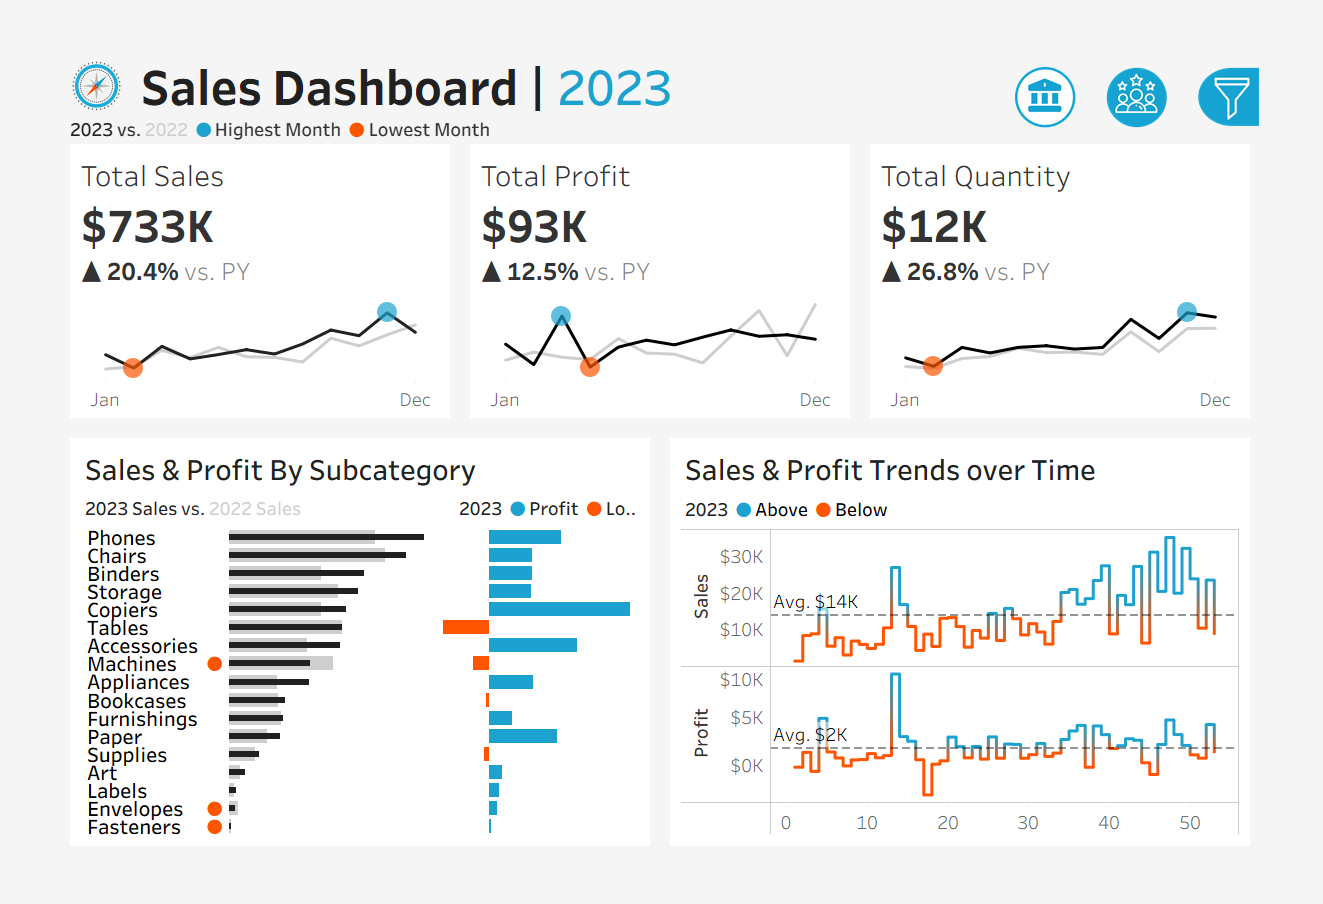

Layout of this report page (visuals, bound fields, positions):
{"tool":"tableau","page":{"name":"Sales Dashboard","canvas":[1200,800],"ordinal":1},"visuals":[{"type":"image","param":"Image/Icon - Logo.png","box":[0,0,73,59]},{"type":"text","box":[73,0,820,59]},{"type":"dashboard-object","box":[940,6,91,70]},{"type":"dashboard-object","box":[1031,6,91,70]},{"type":"blank","box":[952,10,237,86]},{"type":"worksheet","title":"Legend KPI","mark":"Automatic","box":[0,59,1200,29]},{"type":"worksheet","title":"KPI Sales","mark":"Automatic","rows":["Calculation_721701895347843083"],"cols":["Order Date"],"box":[0,88,400,284]},{"type":"worksheet","title":"KPI Profit","mark":"Automatic","rows":["Min/Max Sales (copy)_237846410425847814"],"cols":["Order Date"],"box":[400,88,400,284]},{"type":"worksheet","title":"KPI Quantity","mark":"Automatic","rows":["Min/Max Sales (copy) (copy)_237846410425856007"],"cols":["Order Date"],"box":[800,88,400,284]},{"type":"text","box":[952,96,237,37]},{"type":"parameter","param":"[Parameters].[Parameter 1]","box":[952,133,237,55]},{"type":"text","box":[952,188,237,32]},{"type":"filter","title":"KPI Sales","param":"[federated.1kpxa041aiai2y1cl4pui1t4eju9].[none:Category:nk]","box":[952,220,237,57]},{"type":"filter","title":"KPI Sales","param":"[federated.1kpxa041aiai2y1cl4pui1t4eju9].[none:Sub-Category:nk]","box":[952,277,237,57]},{"type":"blank","box":[952,334,237,60]},{"type":"text","box":[17,389,566,47]},{"type":"text","box":[617,389,566,47]},{"type":"text","box":[952,394,237,32]},{"type":"filter","title":"KPI Sales","param":"[federated.1kpxa041aiai2y1cl4pui1t4eju9].[none:Region:nk]","box":[952,426,237,57]},{"type":"worksheet","title":"Legend Subcategory","mark":"Automatic","box":[17,436,374,32]},{"type":"text","box":[391,436,192,32]},{"type":"text","box":[617,436,566,33]},{"type":"worksheet","title":"Subcategory Comparison","mark":"Bar","rows":["Sub-Category","Calculation_2435040078806671369"],"cols":["CY Sales (copy)_721701895335804930","Calculation_721701895334993921","CY Sales (copy)_237846410424180736"],"box":[17,468,566,315]},{"type":"worksheet","title":"Weekly Trends","mark":"Automatic","rows":["Calculation_721701895334993921","CY Sales (copy)_237846410424180736"],"cols":["Order Date"],"box":[617,469,566,314]},{"type":"filter","title":"KPI Sales","param":"[federated.1kpxa041aiai2y1cl4pui1t4eju9].[none:State:nk]","box":[952,483,237,57]},{"type":"filter","title":"KPI Sales","param":"[federated.1kpxa041aiai2y1cl4pui1t4eju9].[none:City:nk]","box":[952,540,237,57]}]}

Visuals, with their boxes in screenshot pixels (x1, y1, x2, y2), scaled from the page's 1200x800 canvas onto the 1323x904 screenshot:
image: BBox(0, 0, 80, 67)
text: BBox(80, 0, 985, 67)
dashboard-object: BBox(1036, 7, 1137, 86)
dashboard-object: BBox(1137, 7, 1237, 86)
blank: BBox(1050, 11, 1311, 108)
"Legend KPI" worksheet: BBox(0, 67, 1322, 99)
"KPI Sales" worksheet: BBox(0, 99, 441, 420)
"KPI Profit" worksheet: BBox(441, 99, 882, 420)
"KPI Quantity" worksheet: BBox(882, 99, 1322, 420)
text: BBox(1050, 108, 1311, 150)
parameter: BBox(1050, 150, 1311, 212)
text: BBox(1050, 212, 1311, 249)
"KPI Sales" filter: BBox(1050, 249, 1311, 313)
"KPI Sales" filter: BBox(1050, 313, 1311, 377)
blank: BBox(1050, 377, 1311, 445)
text: BBox(19, 440, 643, 493)
text: BBox(680, 440, 1304, 493)
text: BBox(1050, 445, 1311, 481)
"KPI Sales" filter: BBox(1050, 481, 1311, 546)
"Legend Subcategory" worksheet: BBox(19, 493, 431, 529)
text: BBox(431, 493, 643, 529)
text: BBox(680, 493, 1304, 530)
"Subcategory Comparison" worksheet (Bar marks): BBox(19, 529, 643, 885)
"Weekly Trends" worksheet: BBox(680, 530, 1304, 885)
"KPI Sales" filter: BBox(1050, 546, 1311, 610)
"KPI Sales" filter: BBox(1050, 610, 1311, 675)
